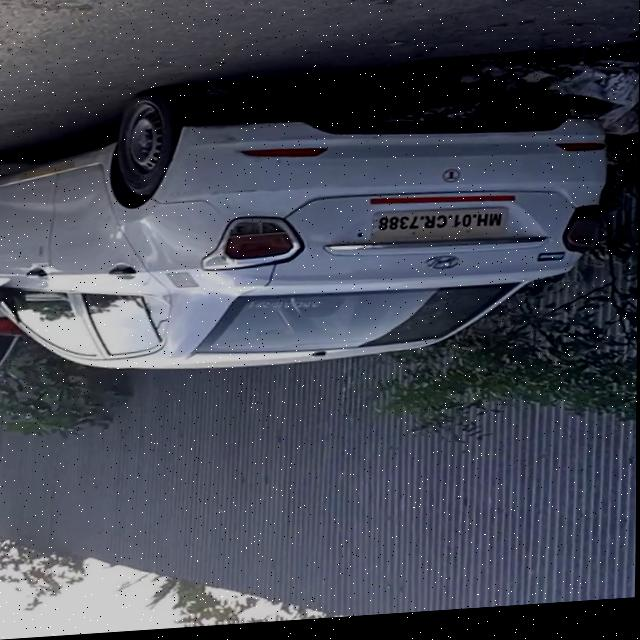plate: (371, 211, 511, 246)
